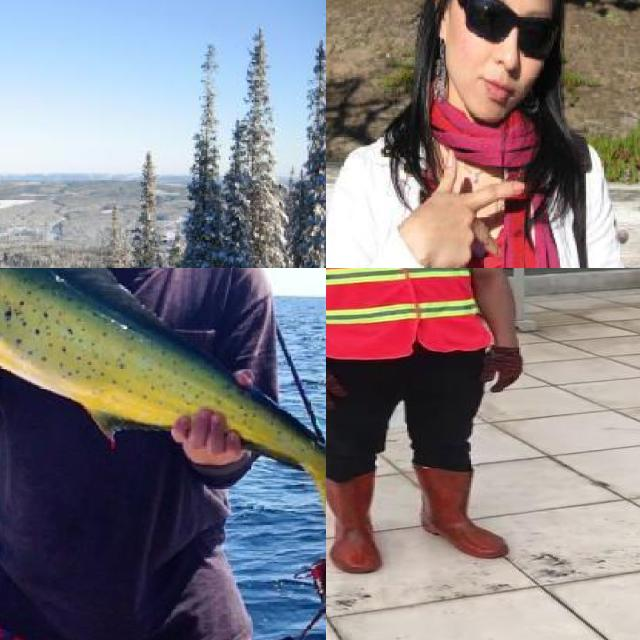boots: (412, 462, 508, 558), (326, 470, 380, 573)
face_nomask: (449, 0, 563, 112)
glasses: (439, 0, 564, 60)
hand_glove: (482, 345, 524, 391), (326, 367, 350, 412)
hand_noglove: (397, 145, 537, 268), (169, 398, 253, 470)
person: (0, 268, 294, 640), (326, 0, 639, 268), (326, 268, 530, 576)
vest: (326, 268, 485, 356)
